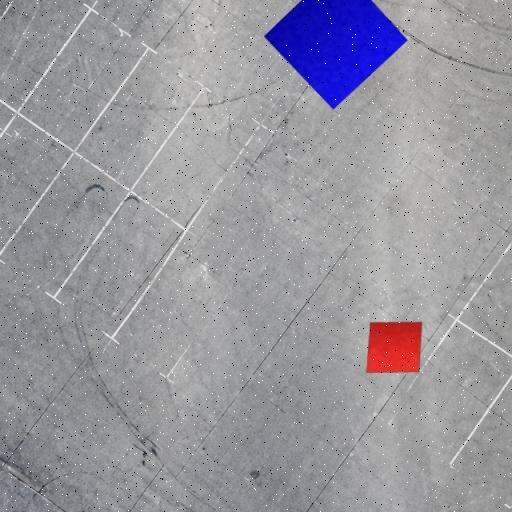BLUE_SQUARE: (263, 0, 408, 110)
RED_SQUARE: (366, 320, 422, 374)
